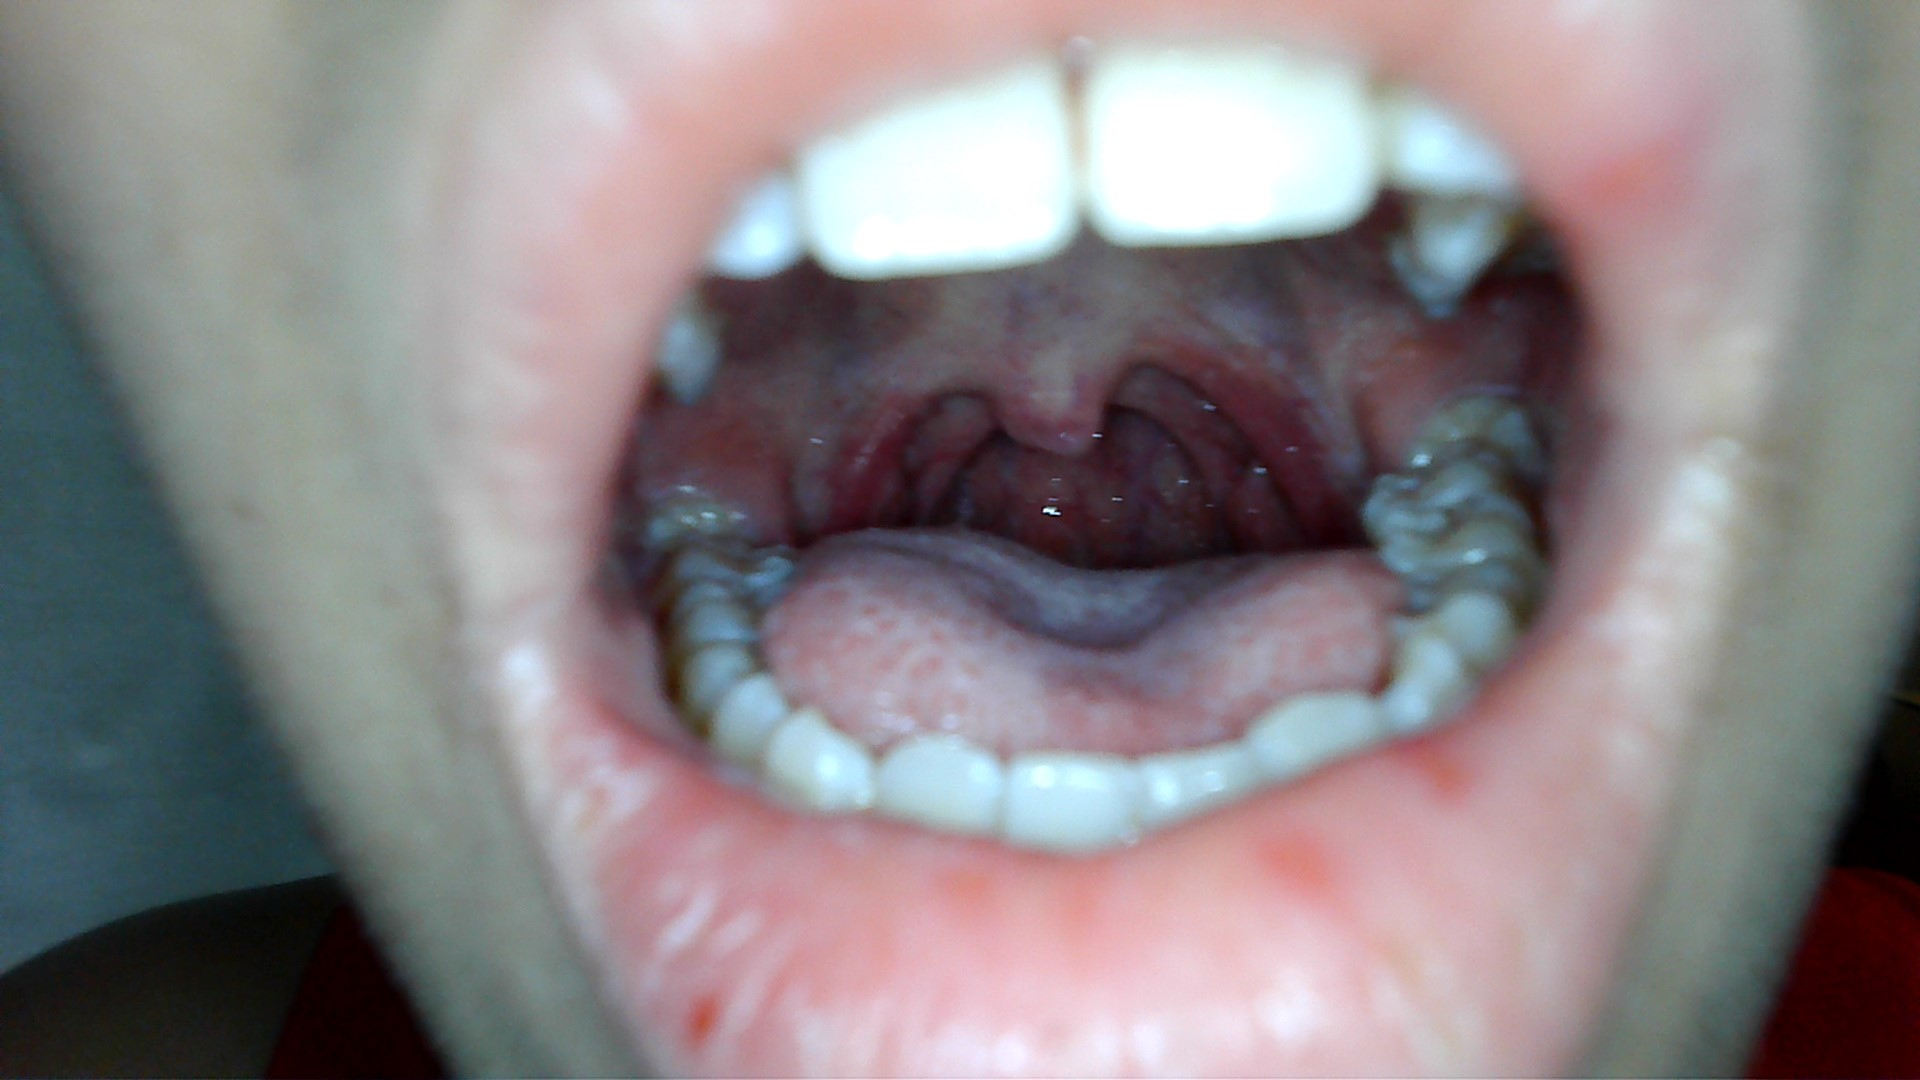throat: (1185, 316, 1331, 524), (810, 340, 949, 524)
